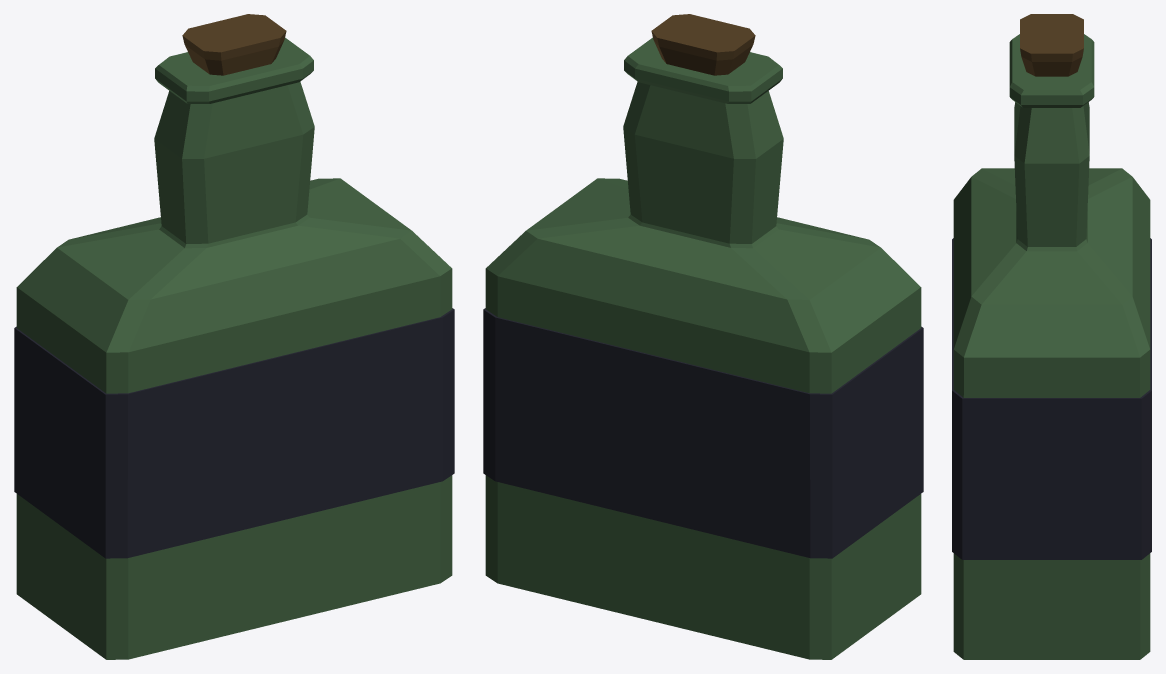
The model's file is LP_BottleSquare.fbx.
The picture shows the model from 3 angles, left to right: view 1: azimuth 30°, elevation 25°; view 2: azimuth 150°, elevation 25°; view 3: azimuth 270°, elevation 25°; orthographic projection.
Visible parts, largest first — view 1: LP_BottleSquare; view 2: LP_BottleSquare; view 3: LP_BottleSquare.
Boxes of the visible parts, left/top/right/bottom form: LP_BottleSquare: left=14, top=14, right=454, bottom=659; LP_BottleSquare: left=483, top=14, right=923, bottom=659; LP_BottleSquare: left=952, top=14, right=1151, bottom=659.
Bounding box in the file's own units: 40.39 × 61 × 20.36.
